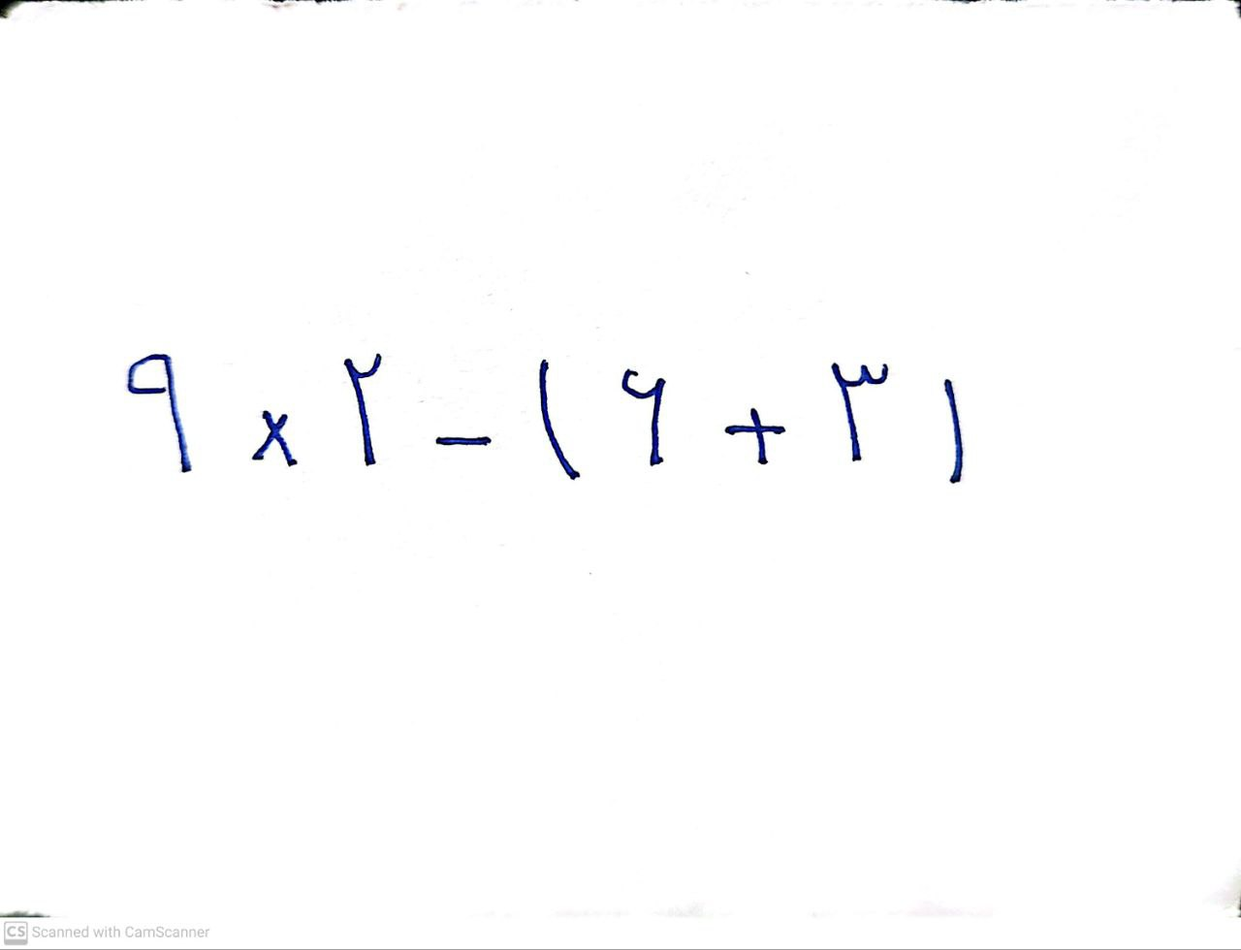character: (126, 351, 195, 471), (832, 363, 890, 463), (539, 359, 579, 479), (343, 356, 386, 466), (622, 371, 666, 464), (724, 411, 785, 464), (251, 411, 298, 468), (945, 379, 965, 484), (433, 434, 494, 448)
